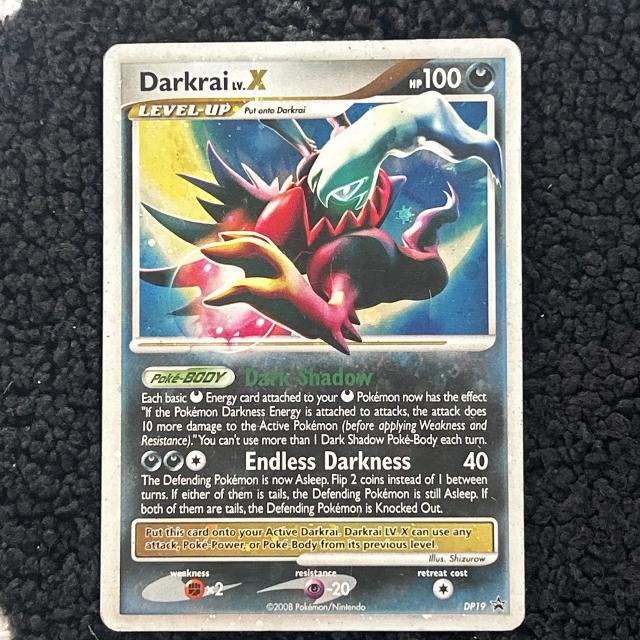Card: (94, 33, 531, 636)
Name: (137, 65, 275, 99)
